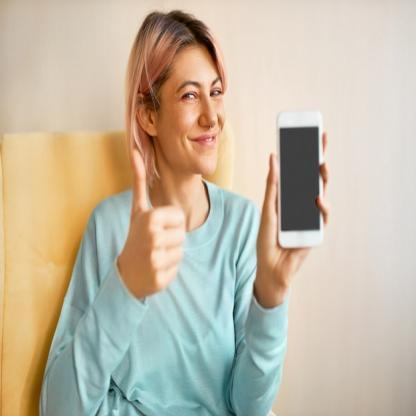thumb_up: (114, 145, 186, 297)
